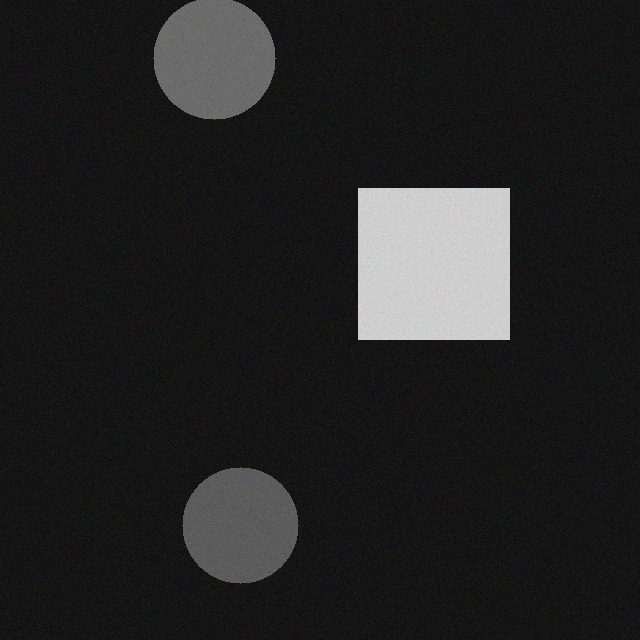circle: (151, 5, 273, 127), (180, 475, 296, 591)
square: (356, 196, 507, 347)
